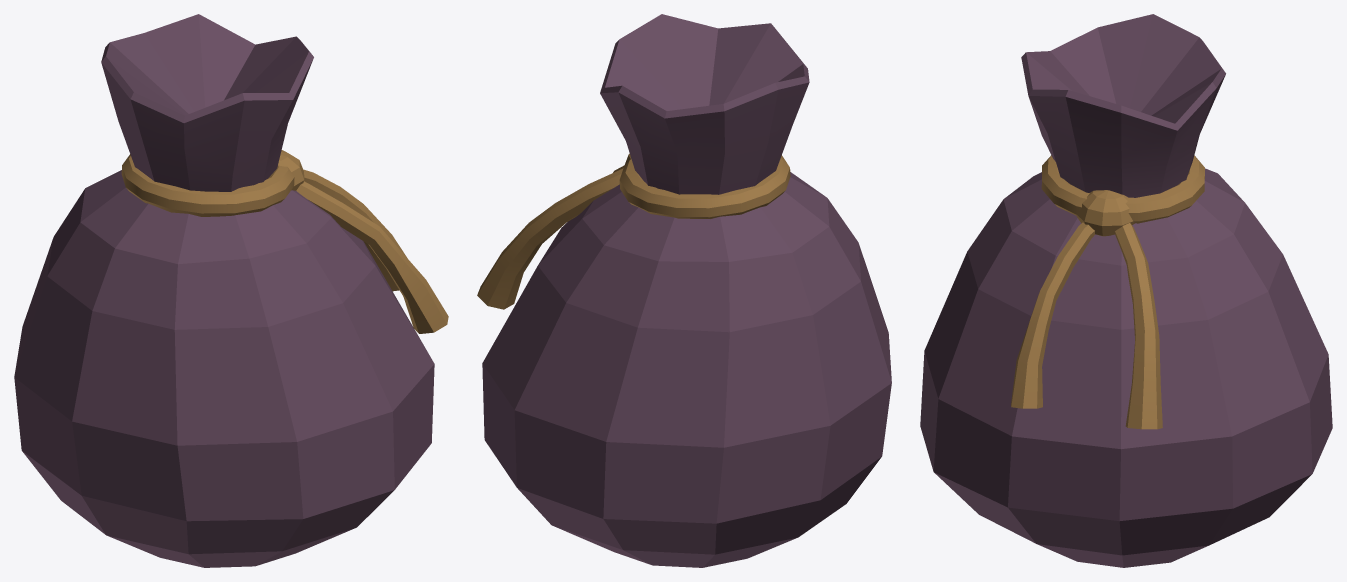
Rendered from Poussiere.fbx.
3 views of the same model, side by side, from view 1: azimuth 30°, elevation 25°; view 2: azimuth 150°, elevation 25°; view 3: azimuth 270°, elevation 25° (orthographic). The views are drawn at different scales.
Visible parts, largest first — view 1: Poussiere; view 2: Poussiere; view 3: Poussiere.
Part boxes in pixels (x1=…): Poussiere: x1=14, y1=14, x2=448, y2=567; Poussiere: x1=477, y1=14, x2=891, y2=567; Poussiere: x1=920, y1=14, x2=1332, y2=567.
Size of the model in its own units: 13.89 by 17.21 by 13.61.
